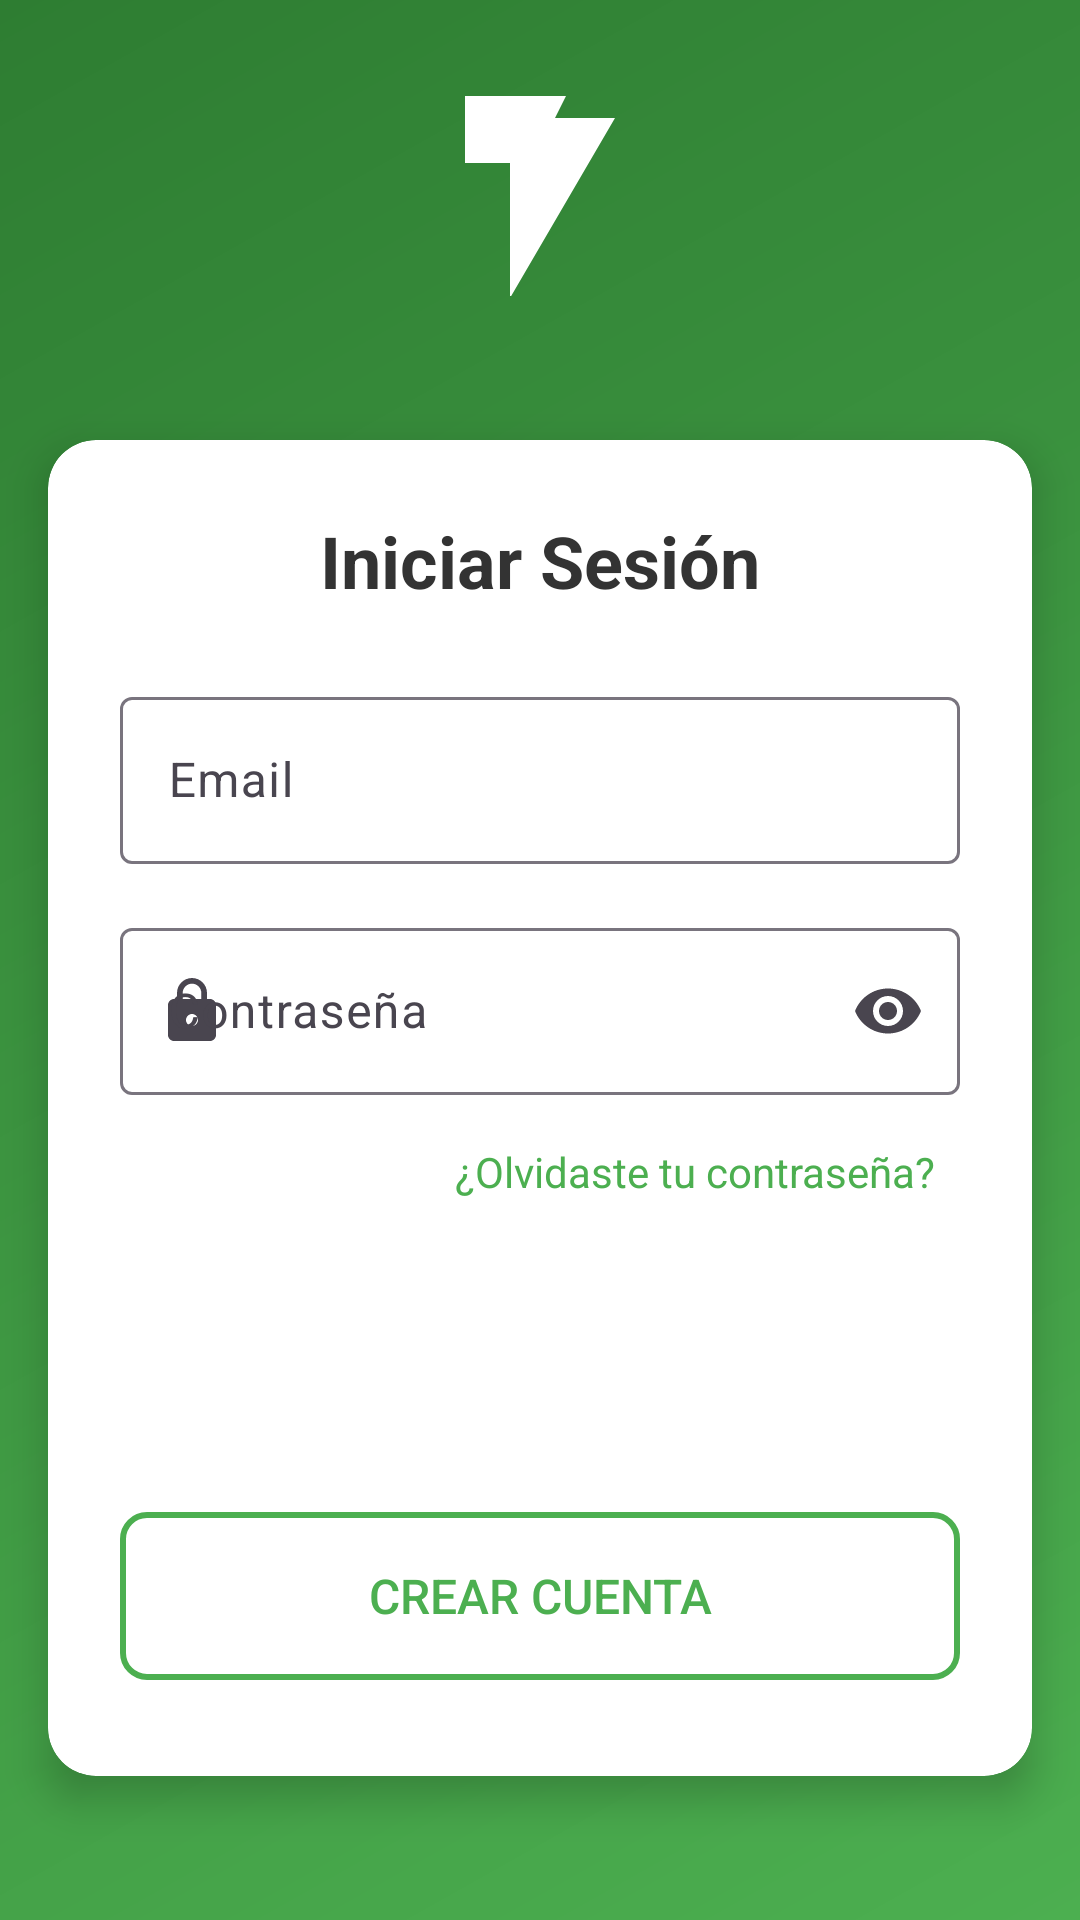

Where icons sit on this 1080px×1920px app screen, as (x1, y1, x2, y2):
flash: (465, 96, 615, 296)
